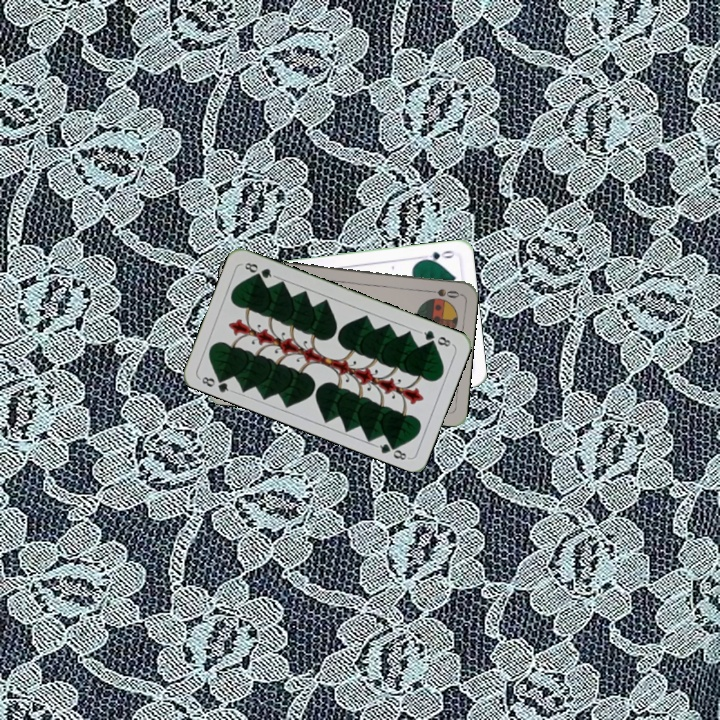G8: (196, 371, 235, 395), (416, 326, 455, 349)
GO: (417, 246, 457, 265)
SO: (421, 285, 462, 301)
